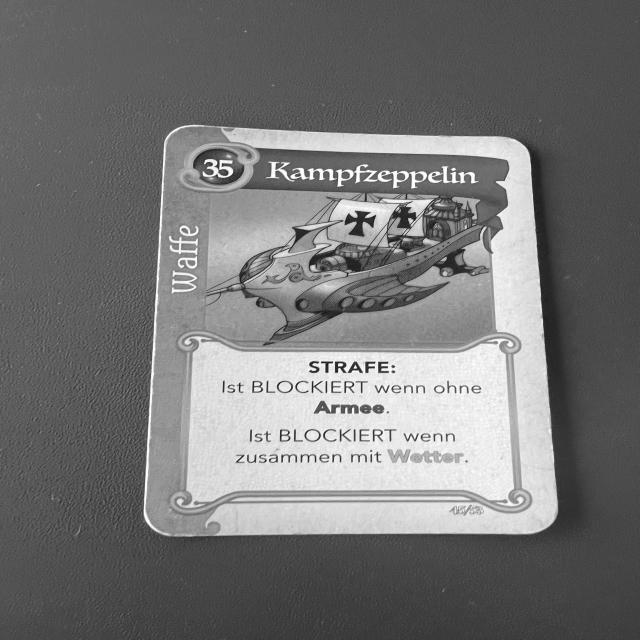War Dirigable: (128, 121, 566, 548)
